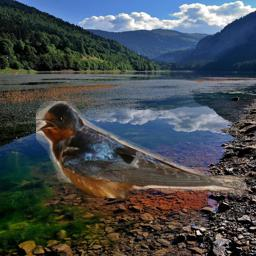Swallow: (36, 101, 249, 198)
